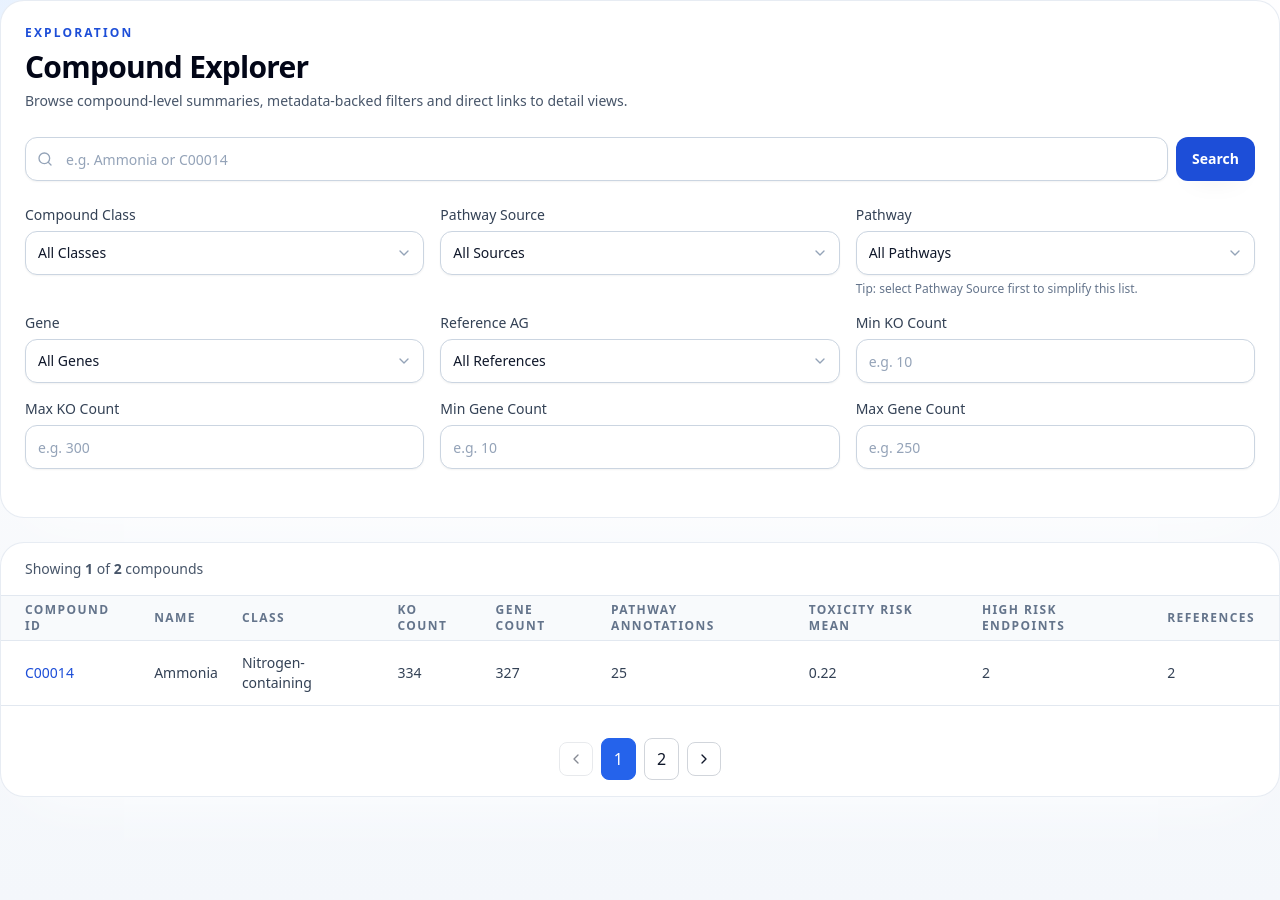
Test: CompoundExplorer › changes pages when more than one result page is available
Expected: the text "Ammonia" is shown, [142,640,230,704]
Click the button "2" at {"x": 662, "y": 758}, box [644,738,679,780]
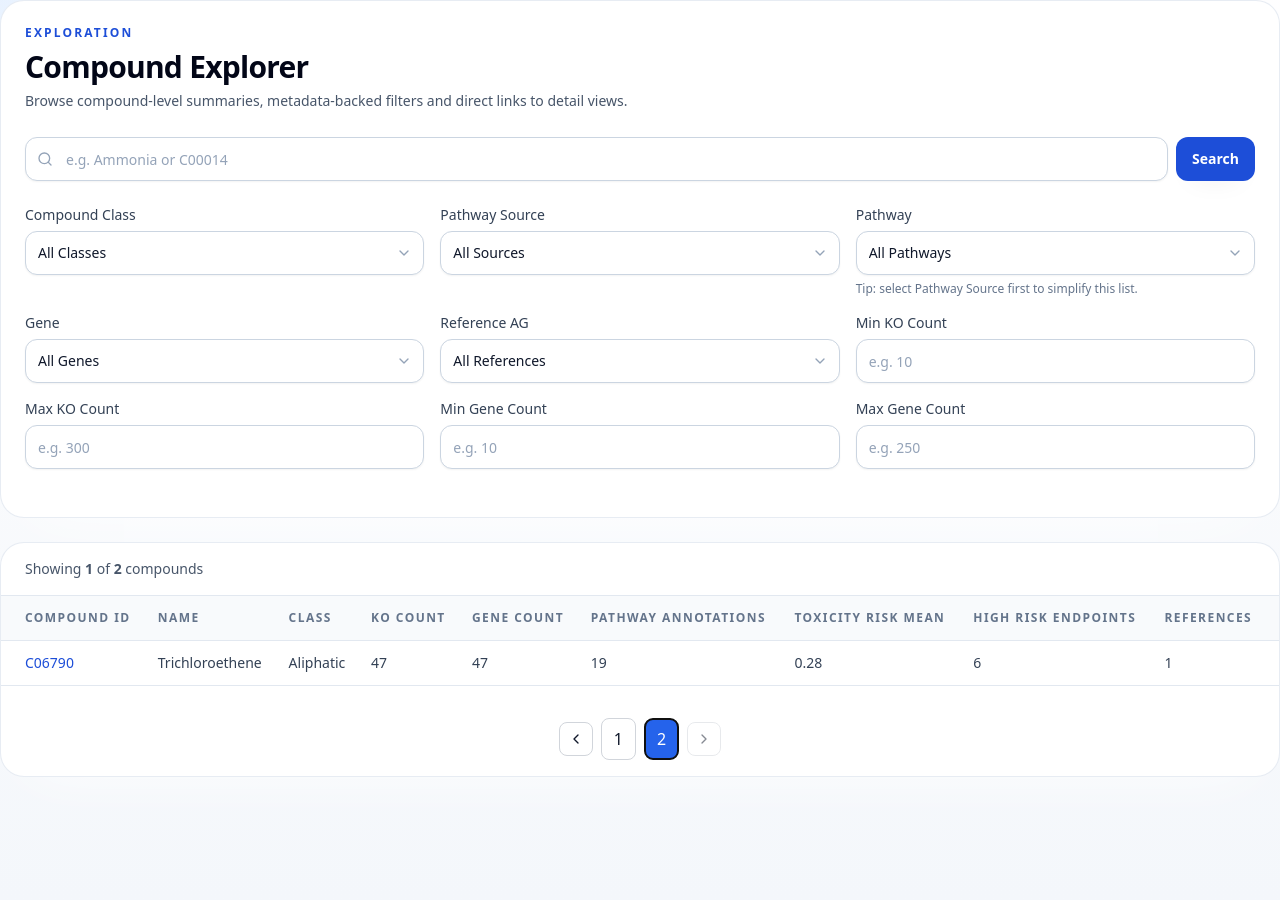
Expected: the text "Trichloroethene" is shown, [146,640,277,684]
